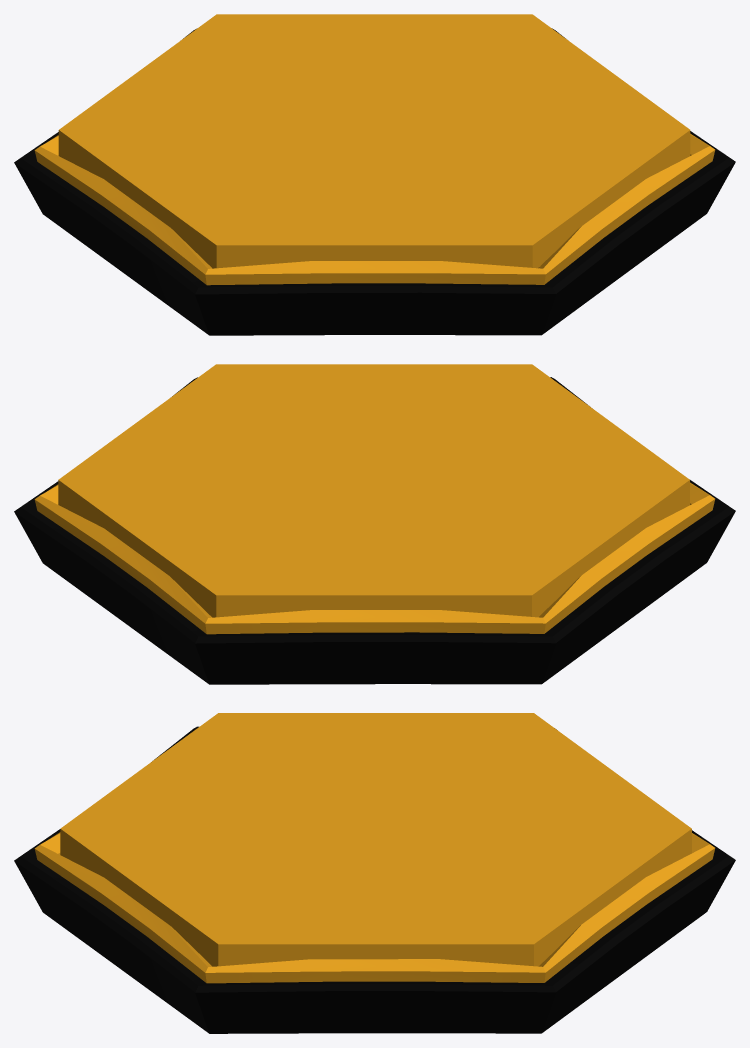
File: PetriDish.fbx
3 views of the same model, one above another, from view 1: azimuth 30°, elevation 25°; view 2: azimuth 150°, elevation 25°; view 3: azimuth 270°, elevation 25° (orthographic).
Visible parts, largest first — view 1: Case.062; view 2: Case.062; view 3: Case.062.
Boxes of the visible parts, left/top/right/bottom form: Case.062: left=14, top=14, right=735, bottom=335; Case.062: left=14, top=364, right=735, bottom=684; Case.062: left=14, top=713, right=735, bottom=1033.
Bounding box in the file's own units: 5.39 × 0.8099 × 6.22.
